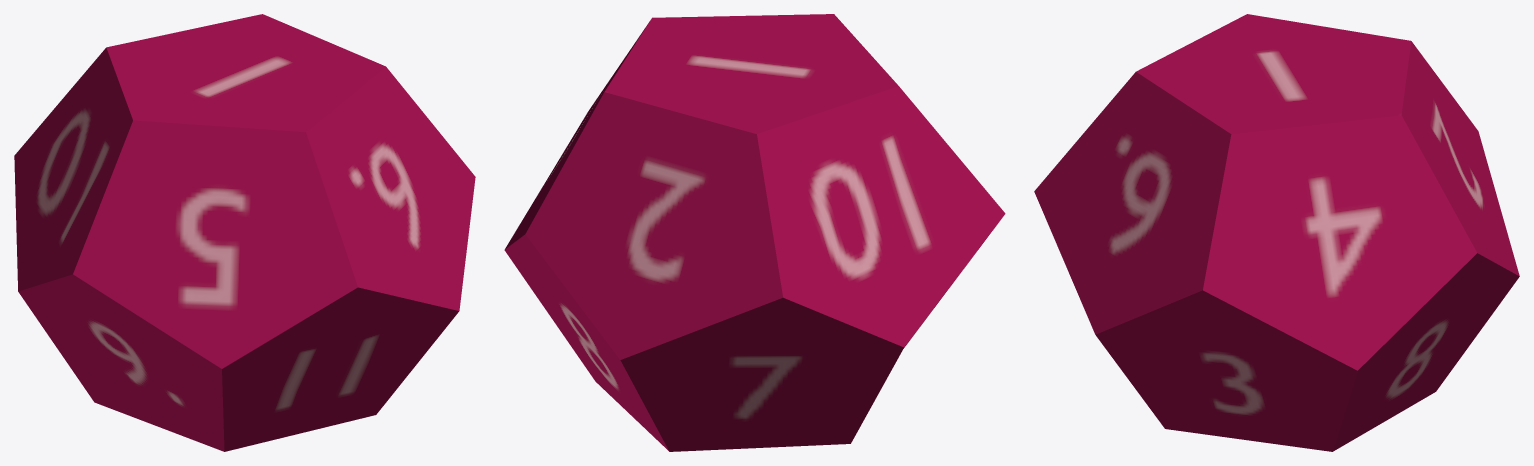
3 views of the same model, side by side, from view 1: azimuth 30°, elevation 25°; view 2: azimuth 150°, elevation 25°; view 3: azimuth 270°, elevation 25° (orthographic). The views are drawn at different scales.
Parts seen in each view (by area): view 1: Cylinder; view 2: Cylinder; view 3: Cylinder.
Boxes of the visible parts, left/top/right/bottom form: Cylinder: left=14, top=14, right=475, bottom=451; Cylinder: left=504, top=14, right=1005, bottom=451; Cylinder: left=1034, top=14, right=1519, bottom=451.
Size of the model in its own units: 3.14 by 2.33 by 3.24.
Materials: 1 (1 with a texture image).
